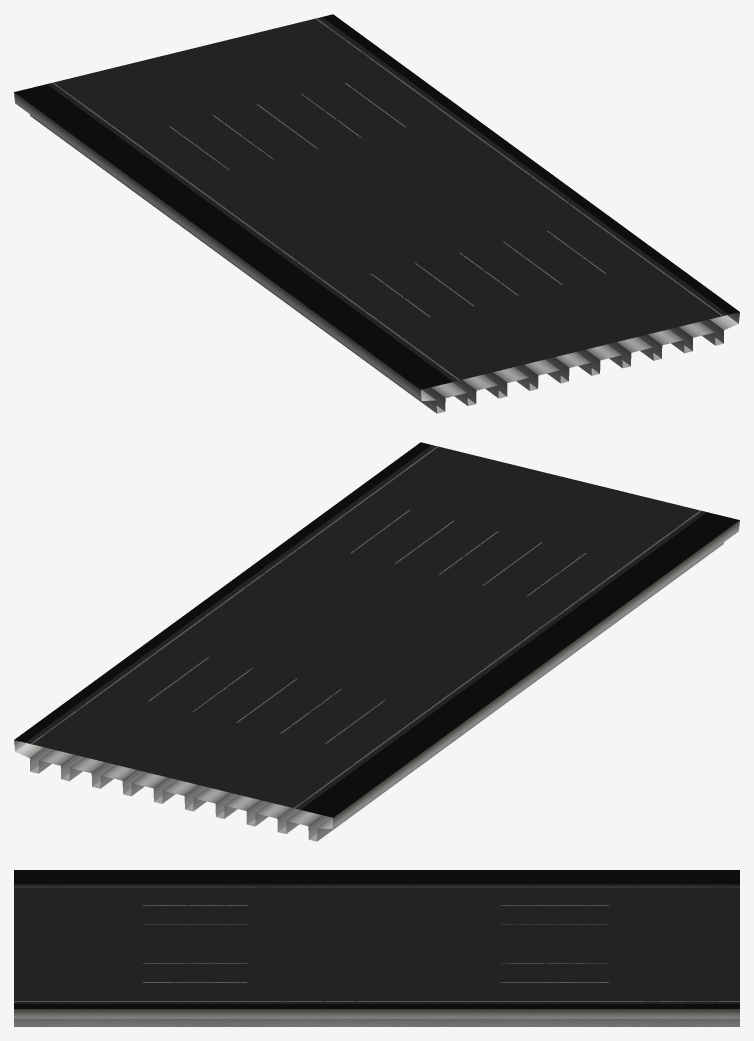
The model's file is elevated-6ls-node-1.fbx.
The picture shows the model from 3 angles, top to bottom: view 1: azimuth 30°, elevation 25°; view 2: azimuth 150°, elevation 25°; view 3: azimuth 270°, elevation 25°; orthographic projection. The views are drawn at different scales.
Visible parts, largest first — view 1: elevated-6ls-node-1; view 2: elevated-6ls-node-1; view 3: elevated-6ls-node-1.
Boxes of the visible parts, <box> form: elevated-6ls-node-1: <box>14,14,739,413</box>; elevated-6ls-node-1: <box>14,442,739,841</box>; elevated-6ls-node-1: <box>14,870,739,1026</box>.
Size of the model in its own units: 2900 by 242 by 6400.
Materials: 1 (1 with a texture image).
